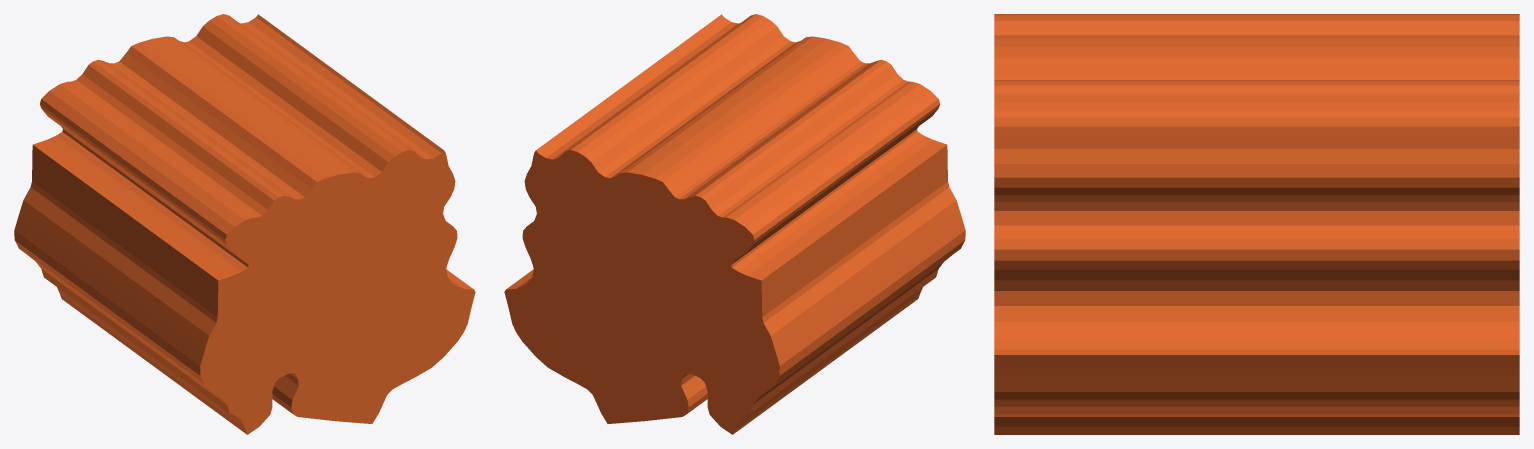
Rendered from yarowilca.glb.
The picture shows the model from 3 angles, left to right: view 1: azimuth 30°, elevation 25°; view 2: azimuth 150°, elevation 25°; view 3: azimuth 270°, elevation 25°; orthographic projection. The views are drawn at different scales.
Parts seen in each view (by area): view 1: yarowilca; view 2: yarowilca; view 3: yarowilca.
Part boxes in pixels (left/top/right/bottom): yarowilca: left=14, top=14, right=475, bottom=434; yarowilca: left=504, top=14, right=965, bottom=434; yarowilca: left=994, top=14, right=1519, bottom=434.
Size of the model in its own units: 1.14 by 1.05 by 1.33.
